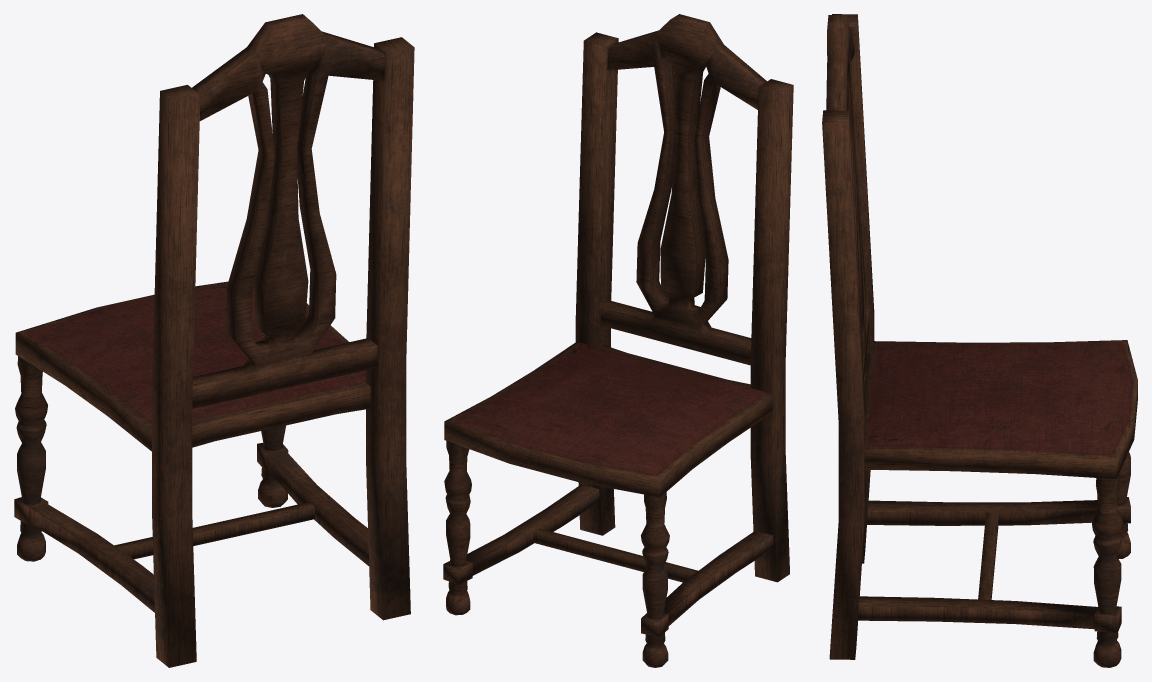
The model's file is diningChair.glb.
The picture shows the model from 3 angles, left to right: view 1: azimuth 30°, elevation 25°; view 2: azimuth 150°, elevation 25°; view 3: azimuth 270°, elevation 25°; orthographic projection. The views are drawn at different scales.
Visible parts, largest first — view 1: Chair; view 2: Chair; view 3: Chair.
Boxes of the visible parts, x1,y1,x2,y2 form: Chair: (14, 14, 414, 667); Chair: (443, 14, 793, 667); Chair: (822, 14, 1137, 667).
Size of the model in its own units: 5.33 by 11.88 by 5.84.
Materials: 1 (1 with a texture image).
